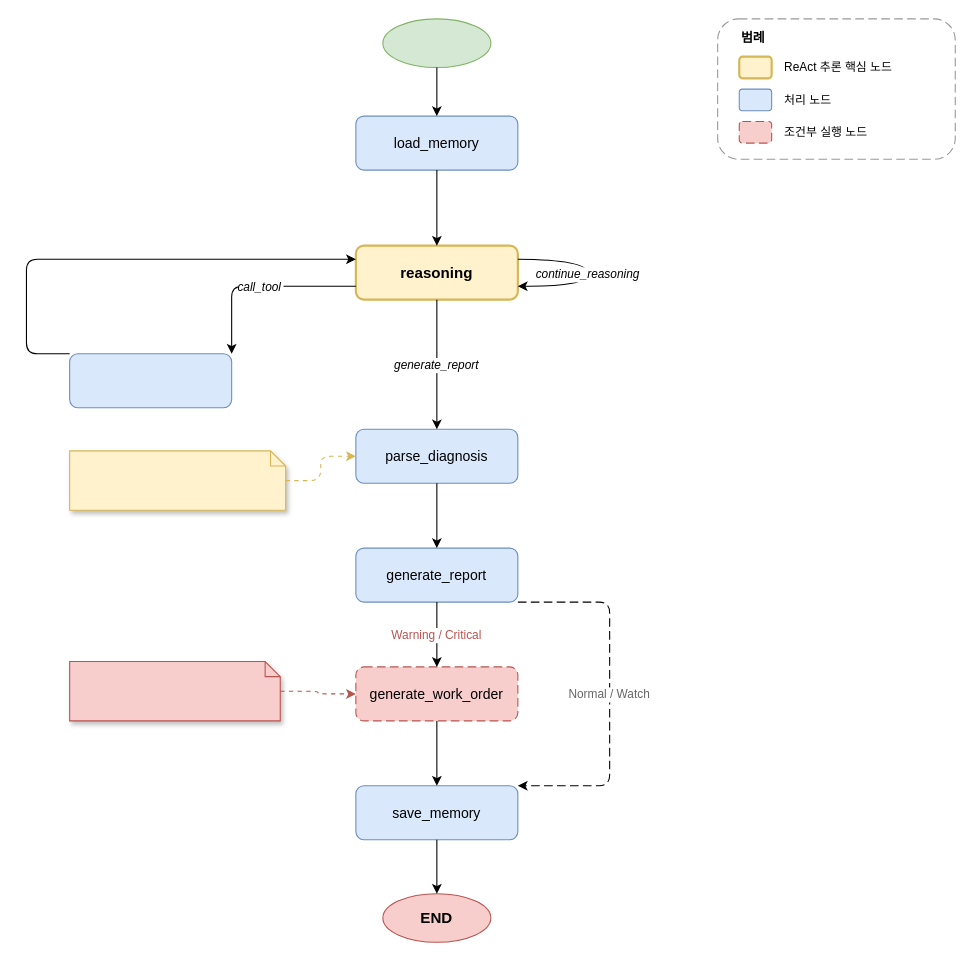
This 974x961 diagram has some shape labels left out. The centre of each missing label's shape, as x and y in pixels:
"START" belongs at (x=436, y=43).
"tool_executor (MCP Client)" belongs at (x=150, y=380).
"⚠ 안전장치 tool_calls_count > 10이면 강제 parse_diagnosis 전이" belongs at (x=178, y=482).
"조건부 실행 Warning/Critical만 실행 Normal/Watch는 건너뜀" belongs at (x=175, y=692).
